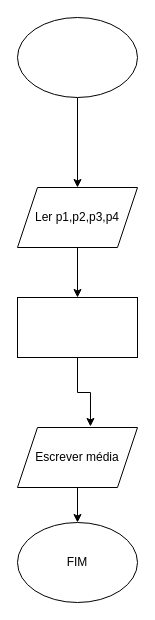
The diagram is 155 pixels wide and 620 high, and some of its shapes have lost their labels. Here are the shapes that lost their labels. From the top down, the centre of each, then its label:
At point 77,57: "INÍCIO".
At point 77,327: "formula média = (p1+p2+p3+p4)/4".
